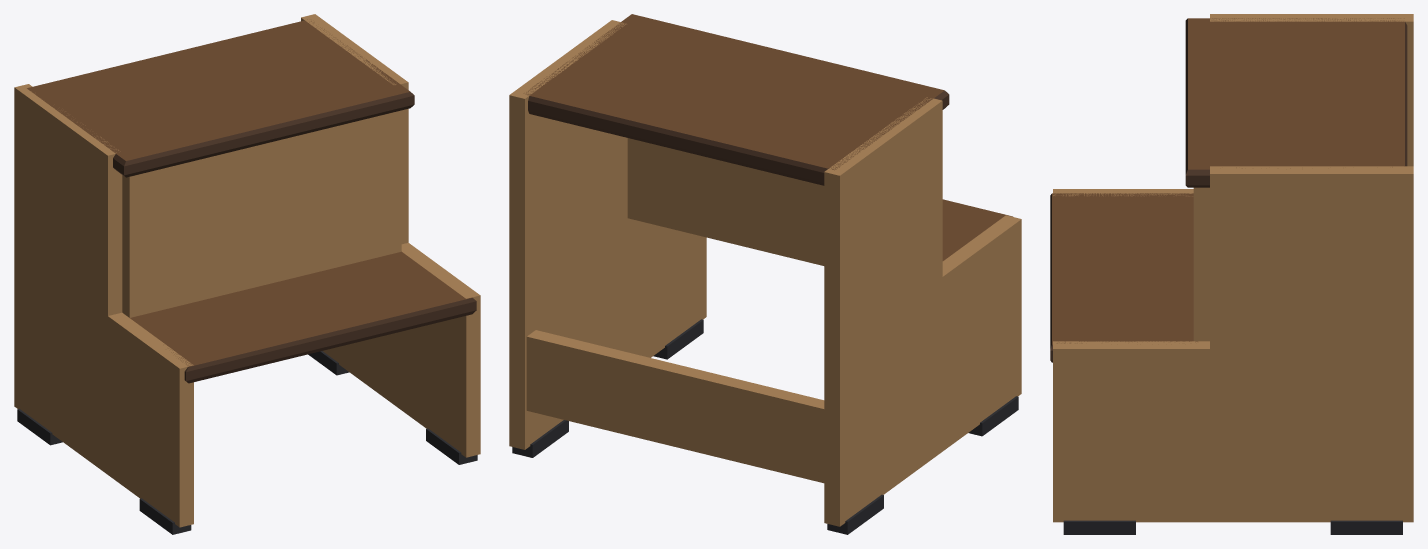
Rendered from FN_Stool_Step.obj.
3 renders of one model, left to right at view 1: azimuth 30°, elevation 25°; view 2: azimuth 150°, elevation 25°; view 3: azimuth 270°, elevation 25°, orthographic. The views are drawn at different scales.
Parts seen in each view (by area): view 1: FN_Stool_Step; view 2: FN_Stool_Step; view 3: FN_Stool_Step.
Part boxes in pixels (x1,y1,x2,y2): FN_Stool_Step: (14, 14, 480, 534); FN_Stool_Step: (509, 14, 1021, 534); FN_Stool_Step: (1050, 14, 1413, 534).
Bounding box in the file's own units: 0.426 × 0.44 × 0.403.
1 material, 1 textured.
